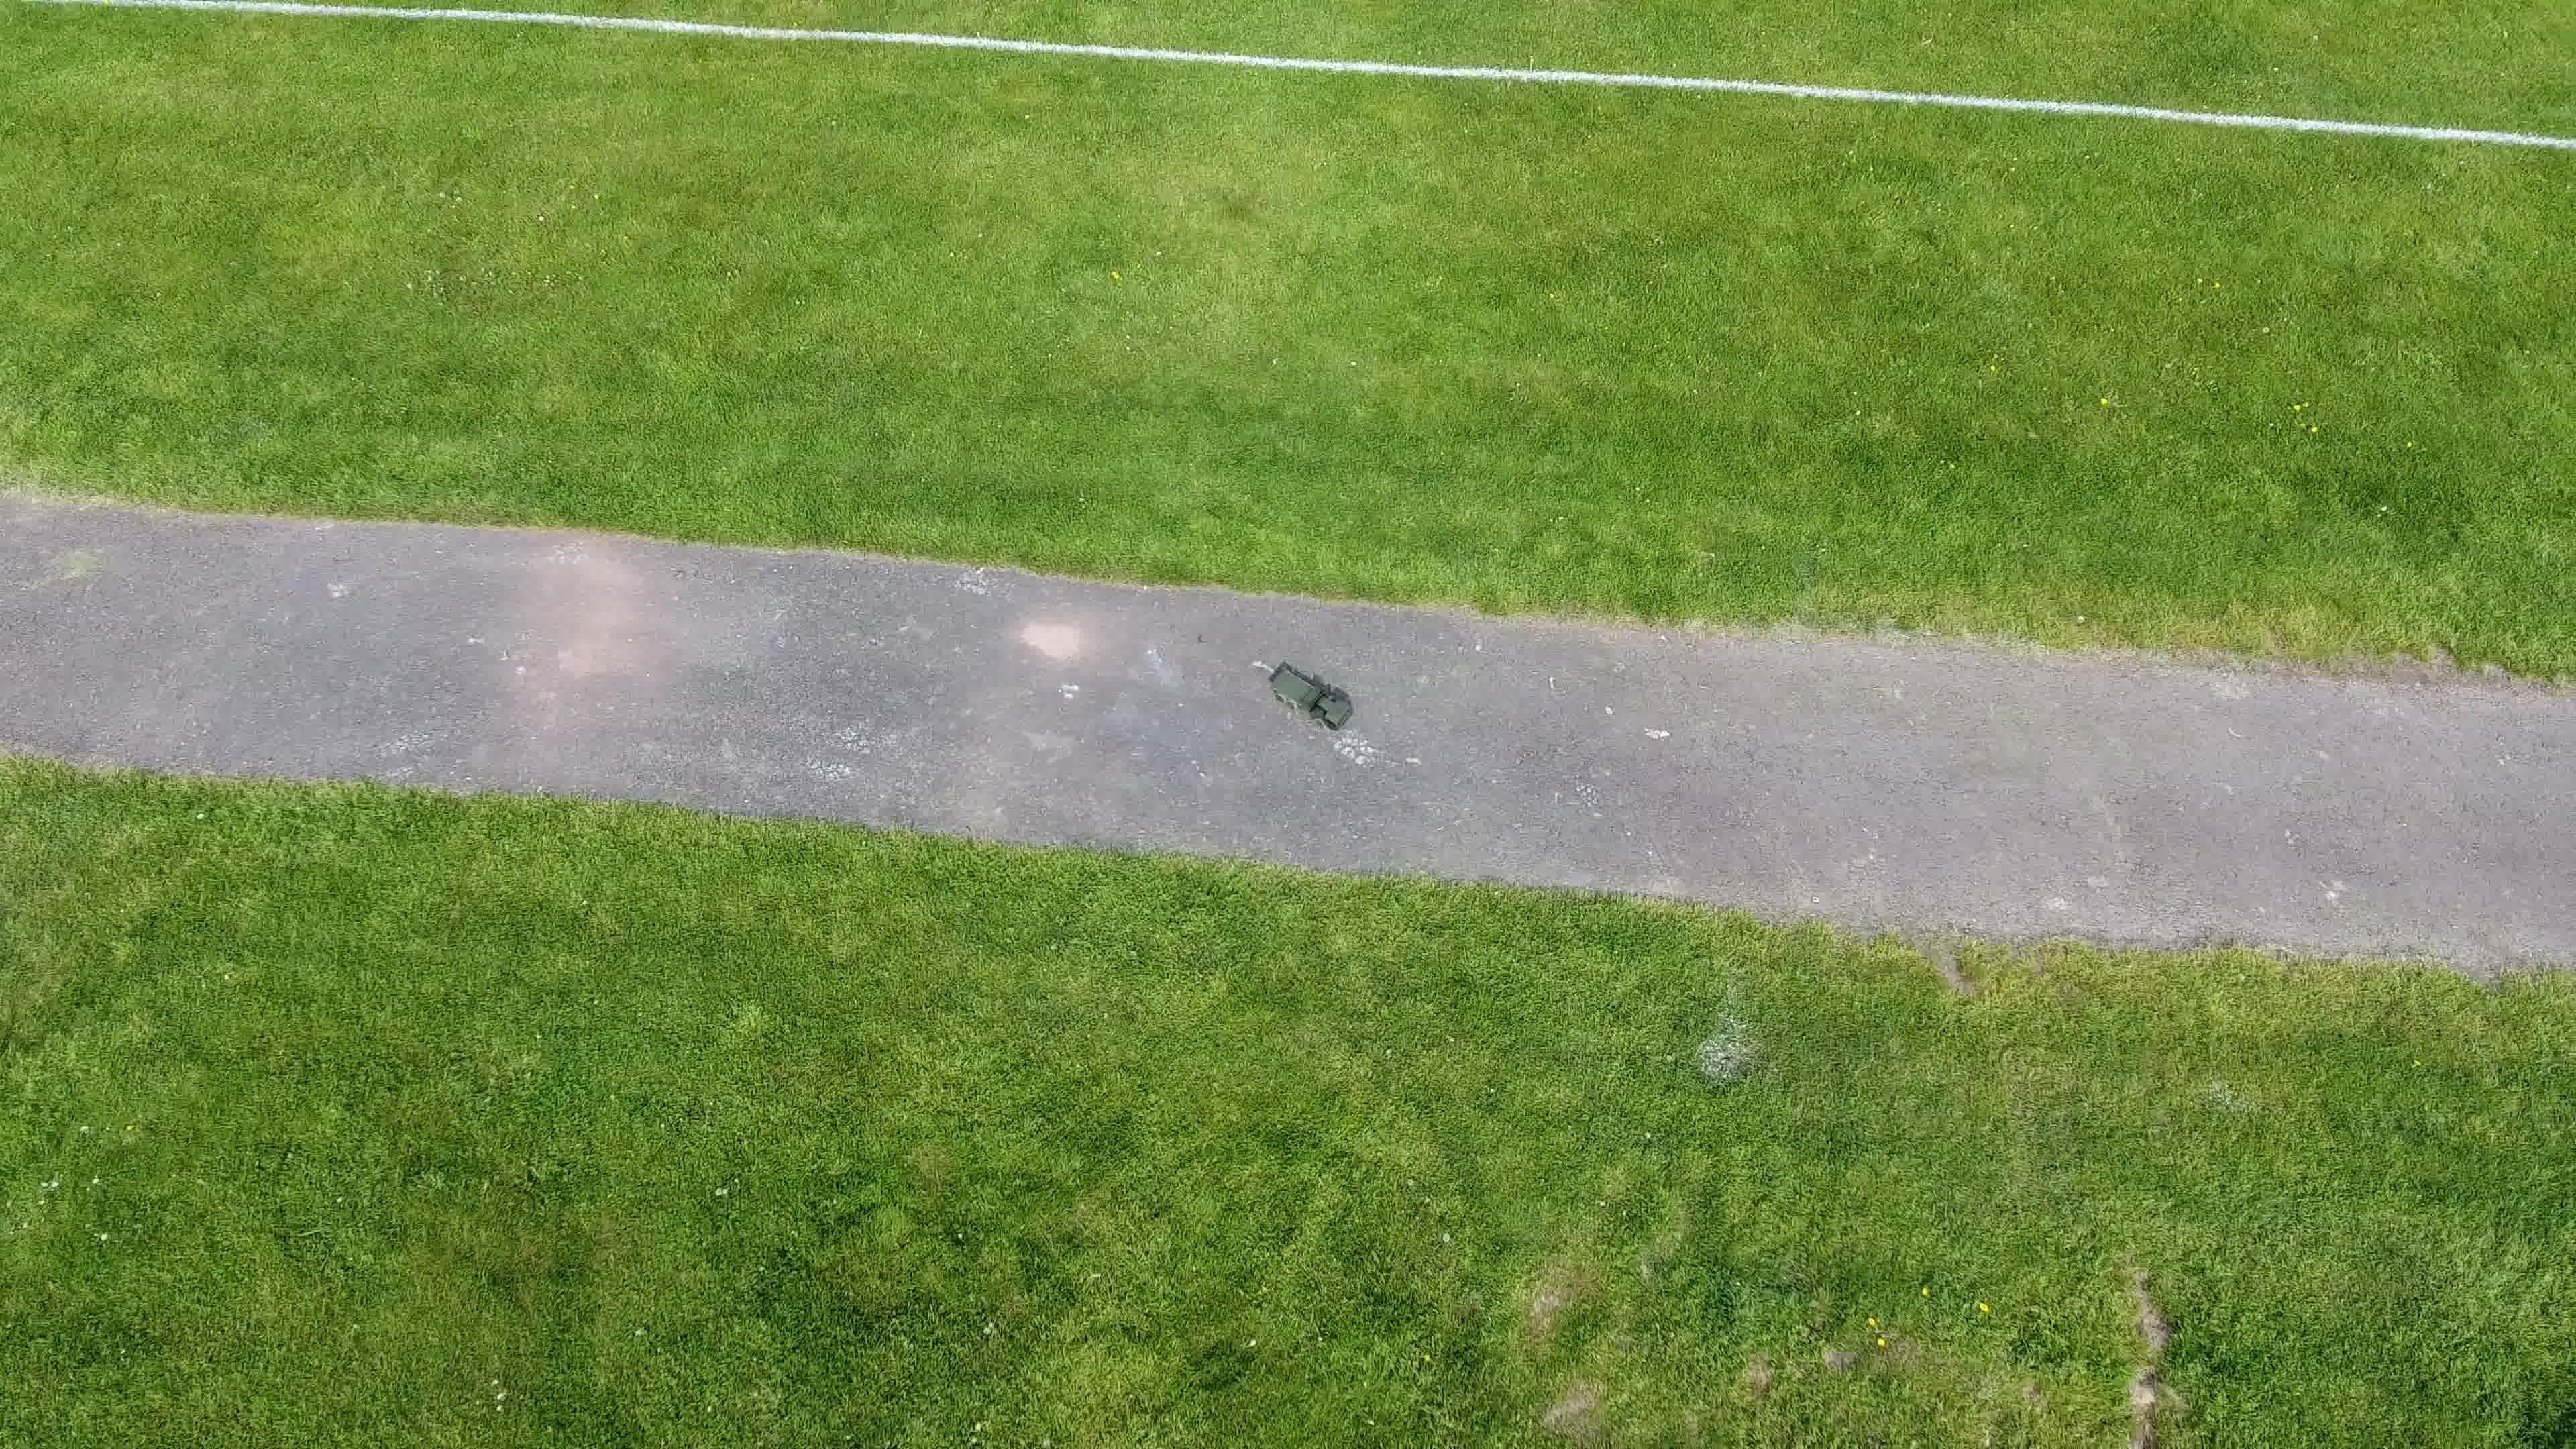transporter9: (1265, 663, 1355, 734)
